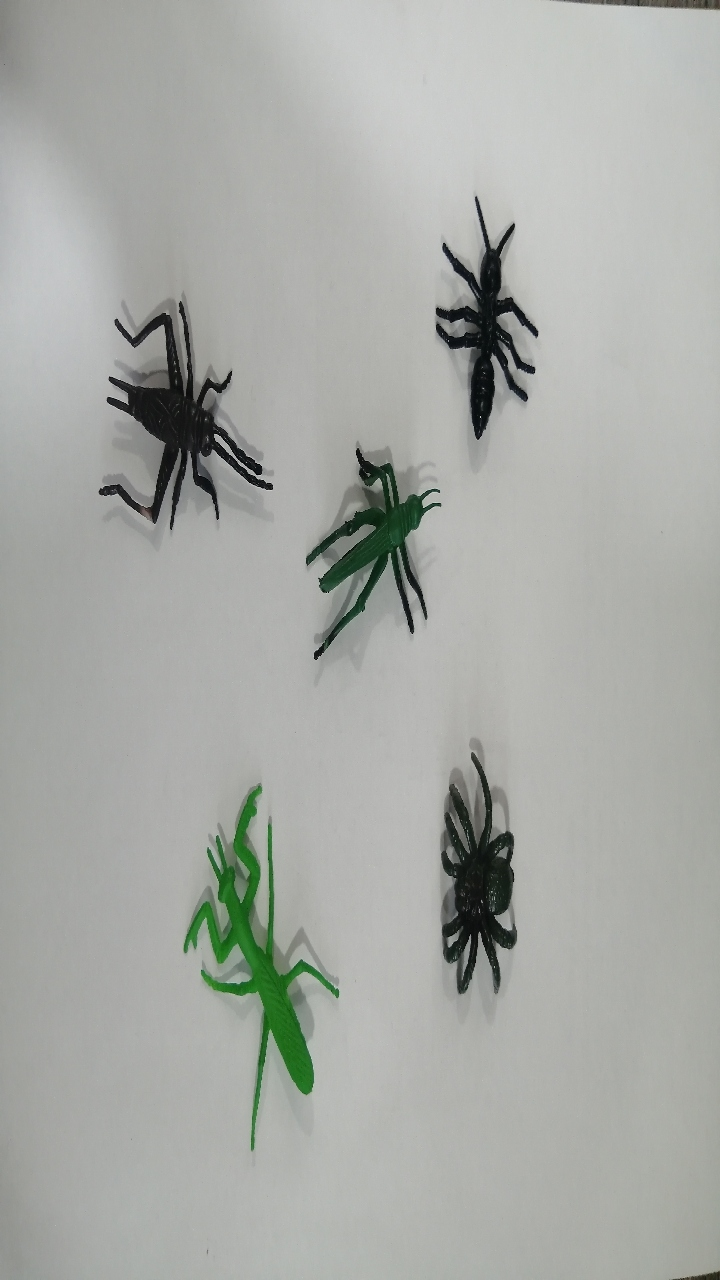intruso: (160, 772, 364, 1151), (66, 286, 288, 559), (400, 717, 555, 1034), (286, 419, 460, 671), (401, 168, 554, 449)
